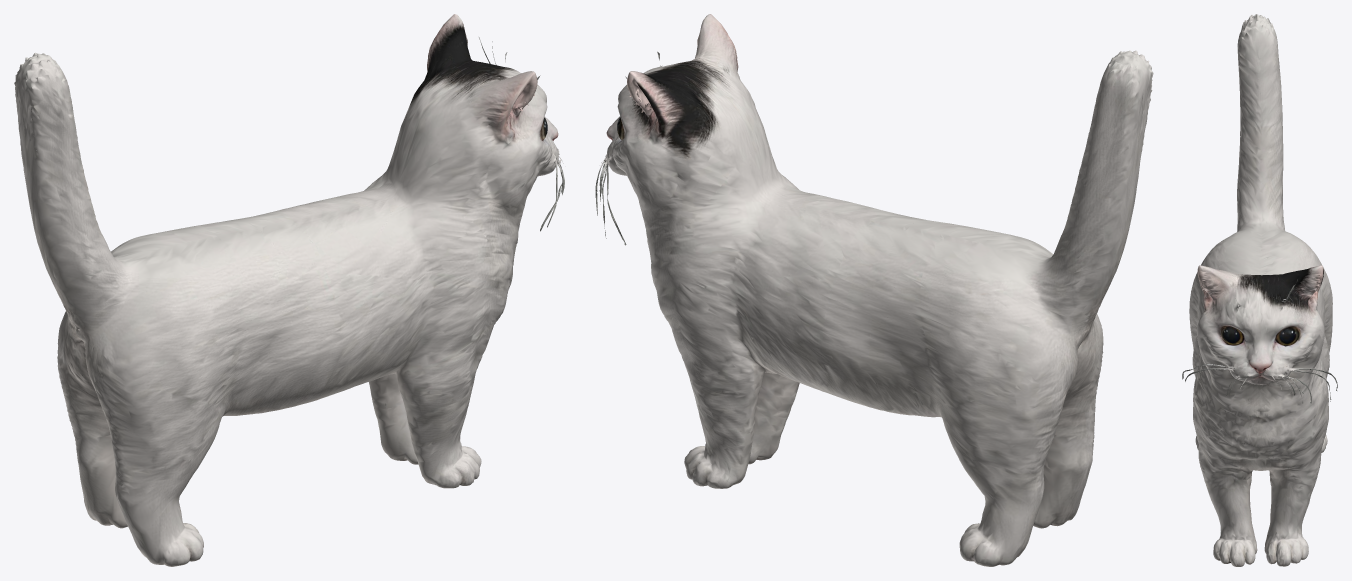
The model's file is IDPHOTO.glb.
3 renders of one model, left to right at view 1: azimuth 30°, elevation 25°; view 2: azimuth 150°, elevation 25°; view 3: azimuth 270°, elevation 25°, orthographic. The views are drawn at different scales.
Parts seen in each view (by area): view 1: tripo_node_df1b5c6a-8c05-4123-8ed7-6ca469865ae9; view 2: tripo_node_df1b5c6a-8c05-4123-8ed7-6ca469865ae9; view 3: tripo_node_df1b5c6a-8c05-4123-8ed7-6ca469865ae9.
Boxes of the visible parts, x1,y1,x2,y2 form: tripo_node_df1b5c6a-8c05-4123-8ed7-6ca469865ae9: (14, 14, 564, 566); tripo_node_df1b5c6a-8c05-4123-8ed7-6ca469865ae9: (595, 14, 1153, 566); tripo_node_df1b5c6a-8c05-4123-8ed7-6ca469865ae9: (1182, 14, 1337, 566).
Size of the model in its own units: 1.09 by 0.9997 by 0.3572.
1 material, 1 textured.
